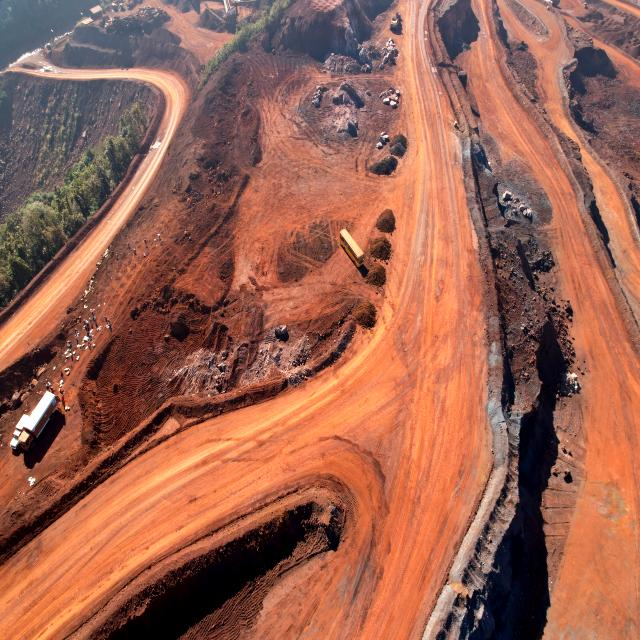Excavator: (391, 14, 403, 29)
person: (48, 381, 53, 390), (108, 322, 112, 332), (60, 394, 64, 404), (67, 340, 72, 348), (58, 364, 62, 374), (90, 308, 94, 315), (104, 316, 108, 322), (94, 316, 97, 324), (87, 338, 90, 346), (115, 253, 118, 260), (133, 248, 136, 255), (144, 240, 147, 247), (157, 233, 160, 240), (128, 242, 130, 248)
